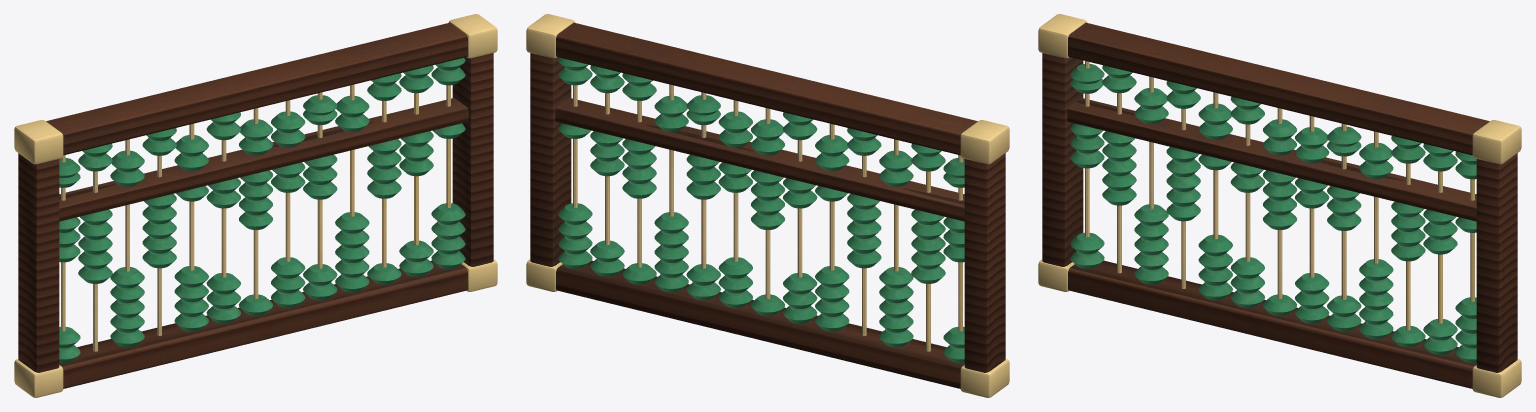
Rendered from jade_abacus.glb.
3 renders of one model, left to right at view 1: azimuth 30°, elevation 25°; view 2: azimuth 150°, elevation 25°; view 3: azimuth 330°, elevation 25°, orthographic.
Visible parts, largest first — view 1: jade_abacus; view 2: jade_abacus; view 3: jade_abacus.
Boxes of the visible parts, left/top/right/bottom form: jade_abacus: left=14, top=14, right=497, bottom=397; jade_abacus: left=526, top=14, right=1009, bottom=397; jade_abacus: left=1038, top=14, right=1521, bottom=397.
Size of the model in its own units: 0.304 by 0.162 by 0.024.
1 material, 1 textured.
